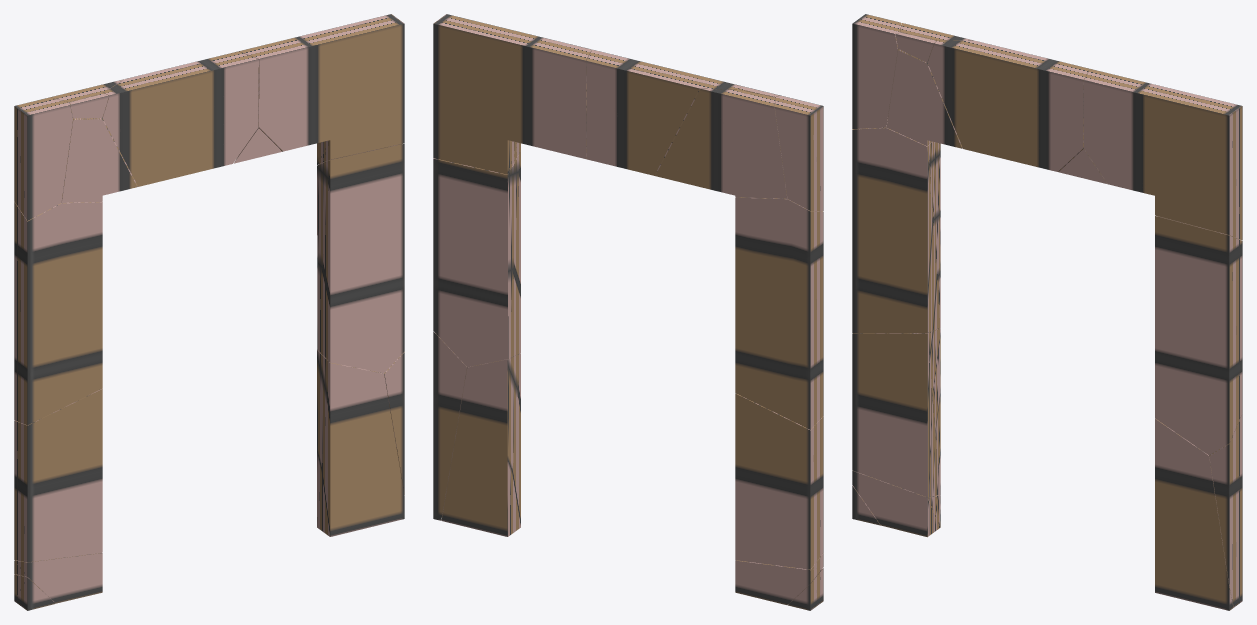
Rendered from doorFrame.fbx.
The picture shows the model from 3 angles, left to right: view 1: azimuth 30°, elevation 25°; view 2: azimuth 150°, elevation 25°; view 3: azimuth 330°, elevation 25°; orthographic projection.
Visible parts, largest first — view 1: Cube_cell.009, Cube_cell.021, Cube_cell.011, Cube_cell.020, Cube_cell.014, Cube_cell.013, Cube_cell.008, Cube_cell.015, Cube_cell.016, Cube_cell.010, Cube_cell.007, Cube_cell.018 (+1 smaller); view 2: Cube_cell.011, Cube_cell.021, Cube_cell.009, Cube_cell.014, Cube_cell.013, Cube_cell.020, Cube_cell.015, Cube_cell.008, Cube_cell.010, Cube_cell.016, Cube_cell.007; view 3: Cube_cell.011, Cube_cell.009, Cube_cell.021, Cube_cell.020, Cube_cell.014, Cube_cell.013, Cube_cell.015, Cube_cell.008, Cube_cell.010, Cube_cell.016, Cube_cell.022, Cube_cell.018 (+1 smaller).
Part boxes in pixels (x1,y1,x2,y2): Cube_cell.009: [317, 143, 404, 373]; Cube_cell.021: [14, 202, 102, 425]; Cube_cell.011: [239, 14, 404, 164]; Cube_cell.020: [102, 51, 258, 186]; Cube_cell.014: [14, 388, 102, 562]; Cube_cell.013: [317, 350, 404, 536]; Cube_cell.008: [14, 97, 72, 220]; Cube_cell.015: [50, 79, 137, 202]; Cube_cell.016: [14, 553, 102, 603]; Cube_cell.010: [384, 352, 404, 494]; Cube_cell.007: [14, 574, 55, 610]; Cube_cell.018: [234, 128, 281, 163]; Cube_cell.011: [433, 14, 591, 174]; Cube_cell.021: [735, 197, 823, 429]; Cube_cell.009: [433, 150, 520, 366]; Cube_cell.014: [735, 393, 823, 569]; Cube_cell.013: [441, 353, 520, 536]; Cube_cell.020: [586, 49, 741, 175]; Cube_cell.015: [655, 89, 787, 198]; Cube_cell.008: [775, 95, 823, 211]; Cube_cell.010: [433, 331, 466, 520]; Cube_cell.016: [735, 553, 823, 604]; Cube_cell.007: [788, 568, 823, 610]; Cube_cell.011: [1084, 69, 1242, 240]; Cube_cell.009: [1155, 216, 1242, 454]; Cube_cell.021: [852, 119, 940, 333]; Cube_cell.020: [927, 40, 1089, 171]; Cube_cell.014: [852, 328, 940, 497]; Cube_cell.013: [1155, 418, 1233, 610]; Cube_cell.015: [886, 23, 974, 148]; Cube_cell.008: [852, 14, 900, 128]; Cube_cell.010: [1209, 414, 1242, 607]; Cube_cell.016: [852, 470, 940, 537]; Cube_cell.022: [895, 32, 936, 62]; Cube_cell.018: [1058, 149, 1106, 183].
Bounding box in the file's own units: 200 × 251 × 12.12.
